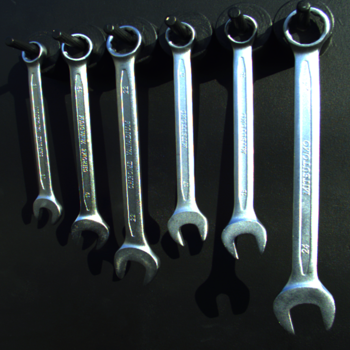bottom: (268, 280, 337, 336), (219, 215, 269, 261), (111, 245, 160, 287), (164, 207, 211, 248), (67, 214, 111, 252), (29, 194, 64, 225)
top: (278, 5, 334, 53), (103, 22, 144, 64), (221, 12, 259, 49), (59, 31, 95, 65), (164, 20, 196, 52), (17, 40, 49, 68)
